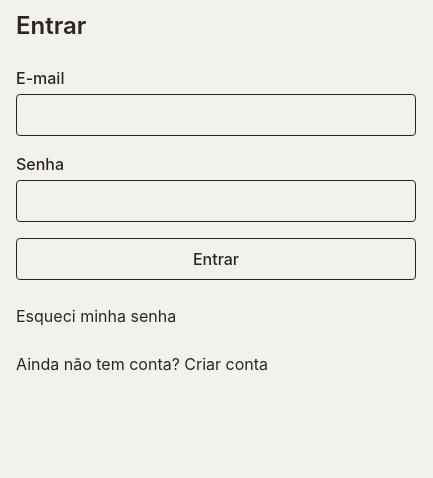
Test: 503 mail_unavailable (AUTH-08) › mostra "Não foi possível enviar o código agora" e fica no passo da senha
Type "ana@exemplo.com.br" into the field labelled "E-mail" at [216, 115], box [16,94,416,136]
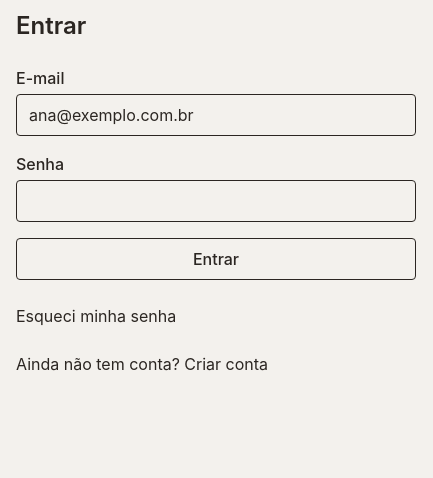
Type "cavalo-bateria-grampo-7" into the password field labelled "Senha" at [216, 201], box [16,180,416,222]
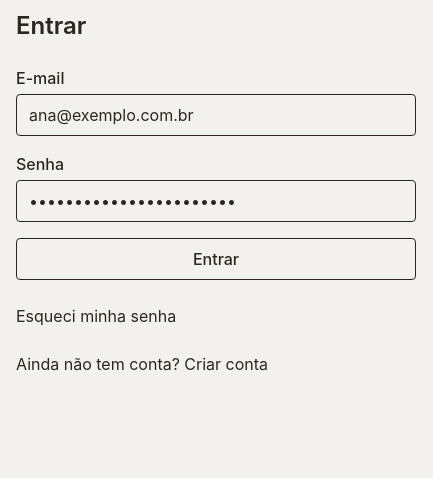
Click the button "Entrar" at [216, 259], box [16,238,416,280]
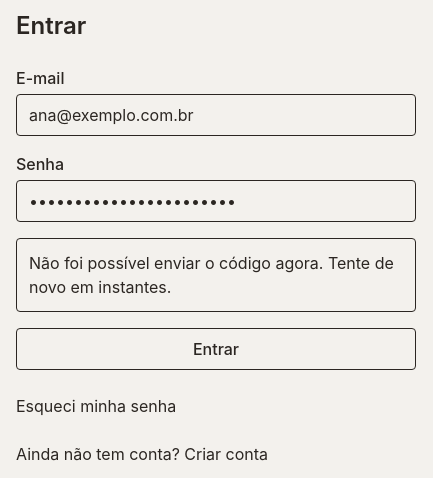
Now the message shows "Não foi possível enviar o código agora", box [29,253,394,297]
